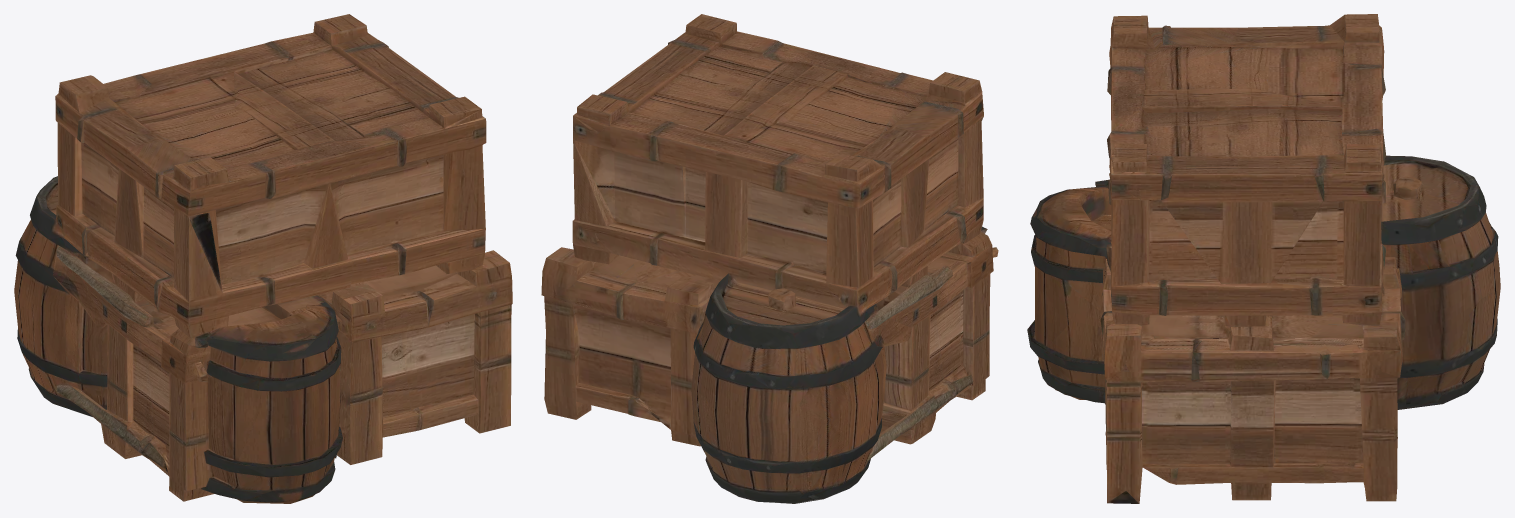
Rendered from crates.glb.
The picture shows the model from 3 angles, left to right: view 1: azimuth 30°, elevation 25°; view 2: azimuth 150°, elevation 25°; view 3: azimuth 270°, elevation 25°; orthographic projection. The views are drawn at different scales.
Bounding box in the file's own units: 1.64 × 1.47 × 1.9.
Materials: 1 (1 with a texture image).
